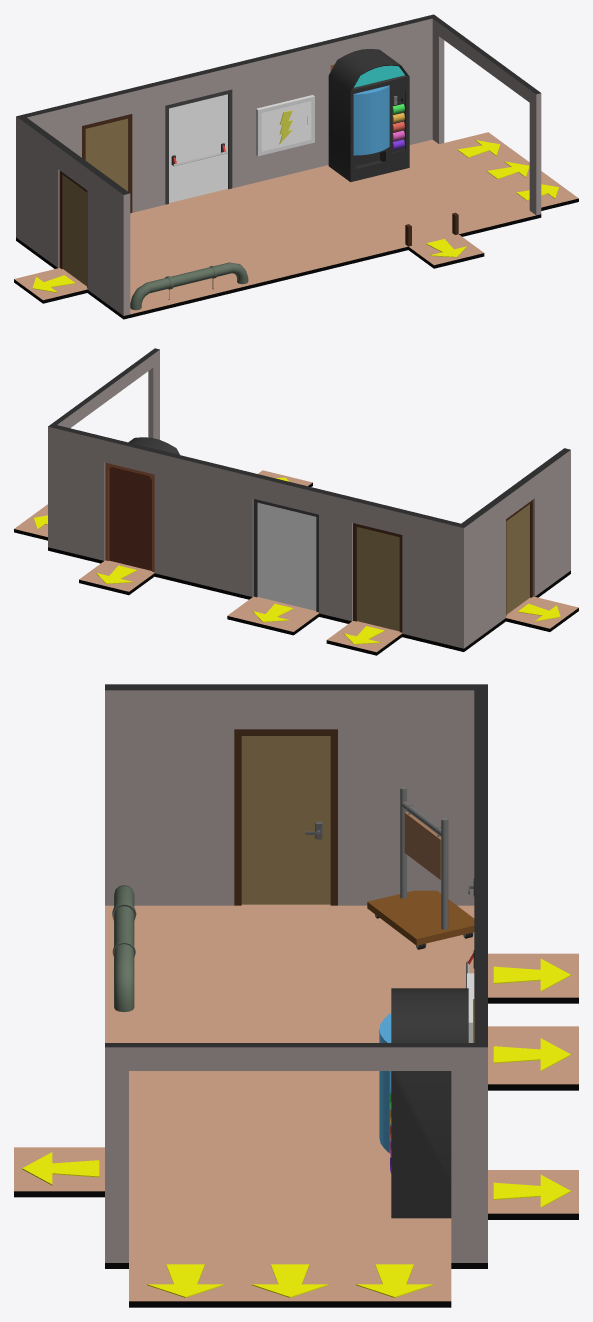
The model's file is Pasillo2.fbx.
3 renders of one model, top to bottom at view 1: azimuth 30°, elevation 25°; view 2: azimuth 150°, elevation 25°; view 3: azimuth 270°, elevation 25°, orthographic. The views are drawn at different scales.
Visible parts, largest first — view 1: Paredes.006, PlataformaMovil.008, MaquinaExpendedora, Puerta1.011, Puerta1.009, Puerta1.010, PuertaFusible, Tuberia, MarcoPuerta.015, SalidaPasillo1.002, Fusible, MarcoPuerta.012 (+3 smaller); view 2: Paredes.006, PlataformaMovil.008, Puerta1.011, Puerta1.009, Puerta1.008, Puerta1.010, MarcoPuerta.015, MarcoPuerta.014, MarcoPuerta.012, MarcoPuerta.013, MaquinaExpendedora, SalidaTallerVestuario (+3 smaller); view 3: PlataformaMovil.008, Paredes.006, Puerta1.010, MaquinaExpendedora, Cartel, SalidaPasillo1.002, MarcoPuerta.013, Tuberia, SalidaExterior, SalidaZonaEmpleados, SalidaEscaleraPrimerPiso, SalidaCamerino3.
Boxes of the visible parts, x1,y1,x2,y2 form: Paredes.006: [16, 14, 541, 315]; PlataformaMovil.008: [14, 132, 578, 319]; MaquinaExpendedora: [328, 49, 409, 182]; Puerta1.011: [169, 94, 227, 202]; Puerta1.009: [85, 118, 128, 191]; Puerta1.010: [63, 175, 86, 286]; PuertaFusible: [261, 101, 311, 151]; Tuberia: [130, 262, 248, 310]; MarcoPuerta.015: [165, 89, 232, 204]; SalidaPasillo1.002: [457, 140, 558, 200]; Fusible: [256, 95, 314, 156]; MarcoPuerta.012: [82, 114, 132, 213]; Paredes.006: [48, 348, 570, 648]; PlataformaMovil.008: [14, 470, 578, 655]; Puerta1.011: [257, 502, 316, 610]; Puerta1.009: [357, 527, 399, 631]; Puerta1.008: [109, 467, 151, 570]; Puerta1.010: [506, 504, 529, 614]; MarcoPuerta.015: [253, 499, 318, 612]; MarcoPuerta.014: [105, 462, 154, 572]; MarcoPuerta.012: [353, 523, 402, 632]; MarcoPuerta.013: [506, 499, 533, 615]; MaquinaExpendedora: [128, 437, 179, 454]; SalidaTallerVestuario: [518, 603, 560, 621]; PlataformaMovil.008: [14, 904, 578, 1307]; Paredes.006: [105, 684, 487, 1262]; Puerta1.010: [241, 736, 330, 904]; MaquinaExpendedora: [379, 988, 468, 1218]; Cartel: [367, 786, 474, 949]; SalidaPasillo1.002: [147, 1264, 432, 1297]; MarcoPuerta.013: [234, 729, 337, 905]; Tuberia: [112, 885, 136, 1011]; SalidaExterior: [493, 1038, 570, 1071]; SalidaZonaEmpleados: [22, 1152, 99, 1185]; SalidaEscaleraPrimerPiso: [493, 959, 570, 991]; SalidaCamerino3: [493, 1175, 570, 1207].
Bounding box in the file's own units: 28591 × 6720 × 15516.
